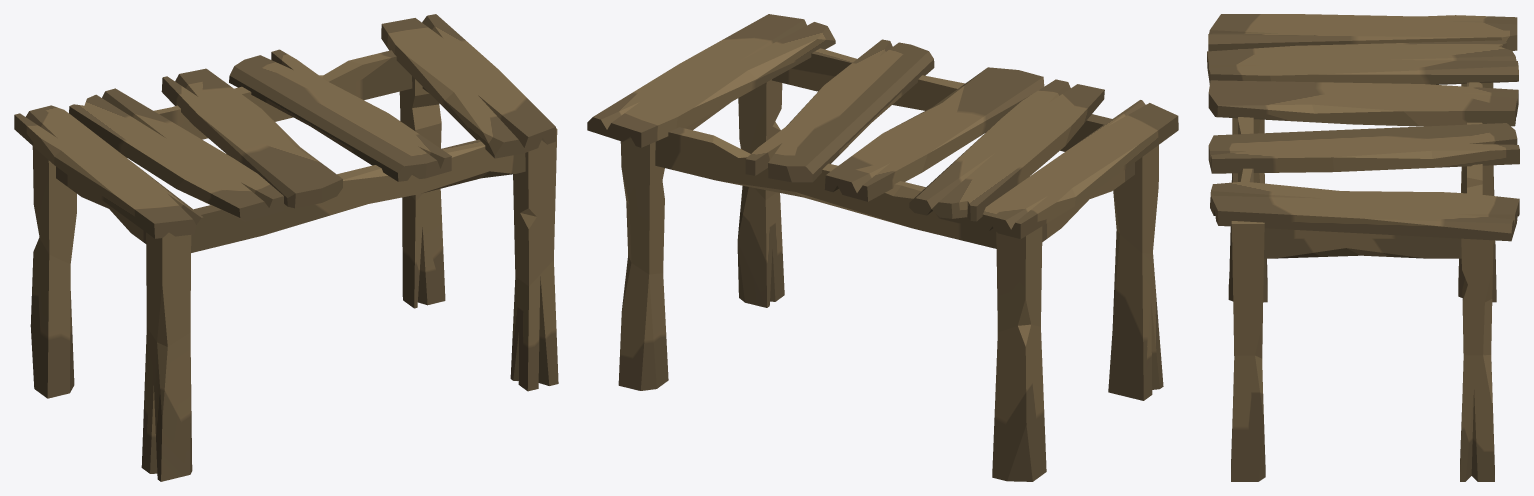
File: SM_Prop_Wooden_Table_01.fbx
3 renders of one model, left to right at view 1: azimuth 30°, elevation 25°; view 2: azimuth 150°, elevation 25°; view 3: azimuth 270°, elevation 25°, orthographic. The views are drawn at different scales.
Parts seen in each view (by area): view 1: SM_Prop_Wooden_Table_01; view 2: SM_Prop_Wooden_Table_01; view 3: SM_Prop_Wooden_Table_01.
Part boxes in pixels (x1=…): SM_Prop_Wooden_Table_01: x1=14, y1=14, x2=558, y2=481; SM_Prop_Wooden_Table_01: x1=587, y1=14, x2=1178, y2=481; SM_Prop_Wooden_Table_01: x1=1207, y1=14, x2=1519, y2=481.
Size of the model in its own units: 151 by 88.56 by 93.91.
Materials: 1 (1 with a texture image).
